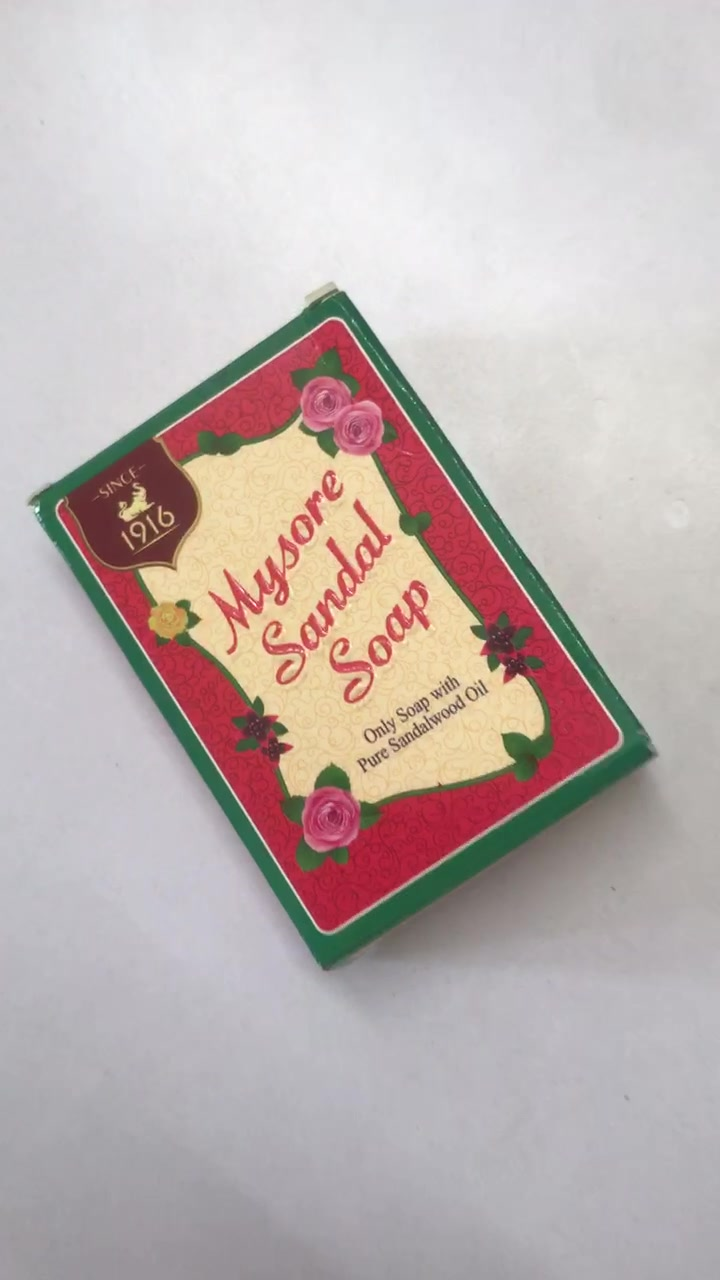mysore sandal soap: (28, 288, 653, 970)
